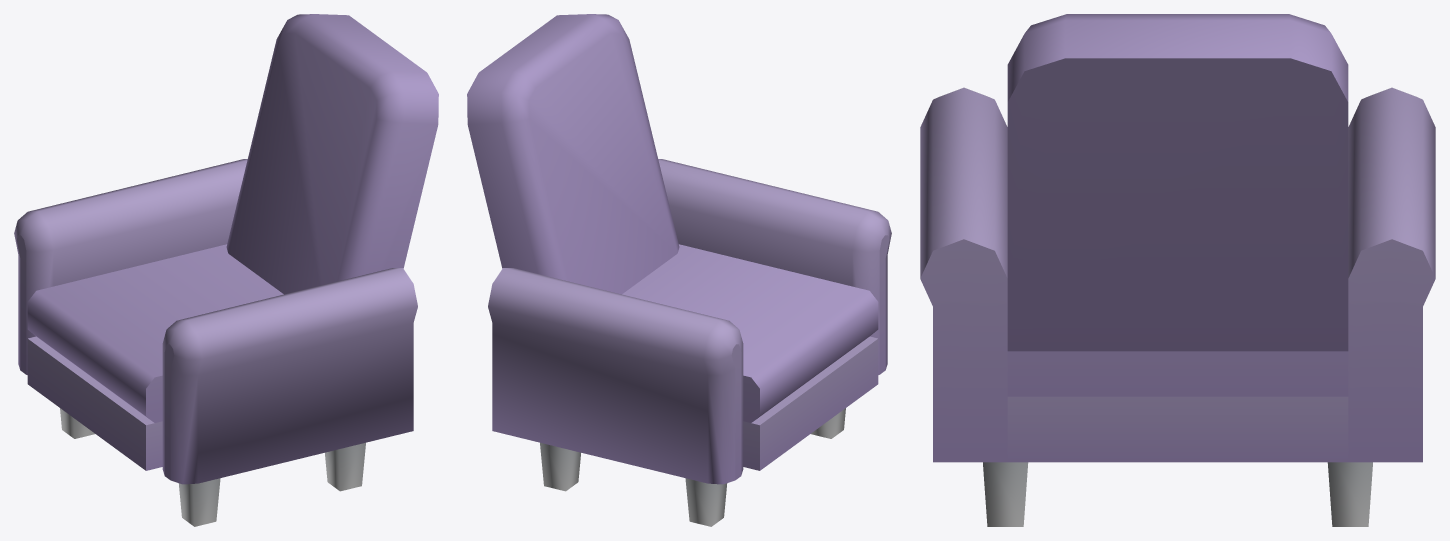
The model's file is stockholm-chair-headrest.glb.
3 views of the same model, side by side, from view 1: azimuth 30°, elevation 25°; view 2: azimuth 150°, elevation 25°; view 3: azimuth 270°, elevation 25° (orthographic). The views are drawn at different scales.
Parts seen in each view (by area): view 1: stockholm-chair-headrest; view 2: stockholm-chair-headrest; view 3: stockholm-chair-headrest.
Part boxes in pixels (x1=…): stockholm-chair-headrest: x1=14, y1=14, x2=438, y2=526; stockholm-chair-headrest: x1=467, y1=14, x2=891, y2=526; stockholm-chair-headrest: x1=920, y1=14, x2=1435, y2=526.
Bounding box in the file's own units: 0.8691 × 1.05 × 0.896.
